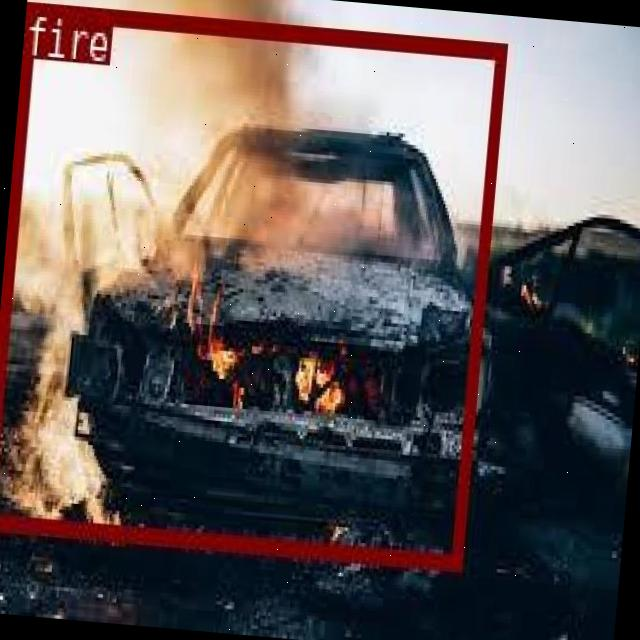fire: (0, 0, 503, 566)
